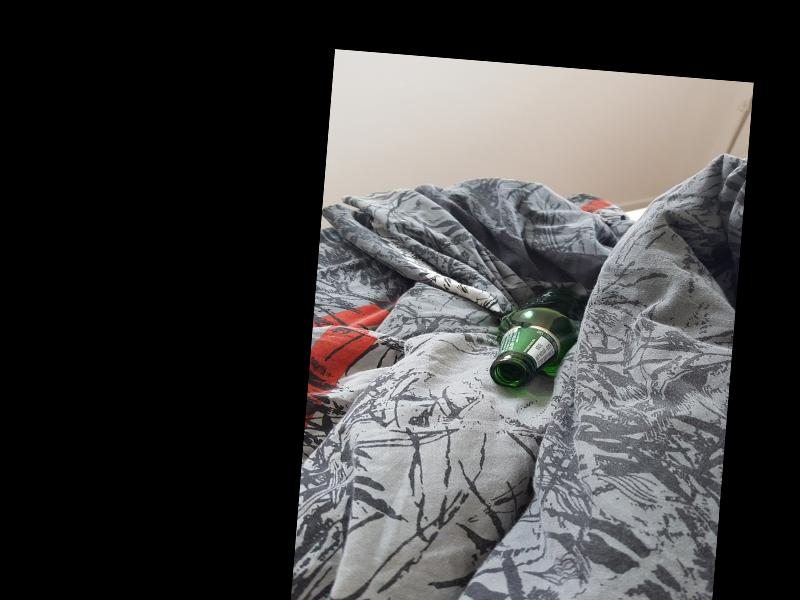Beer: (491, 284, 580, 393)
